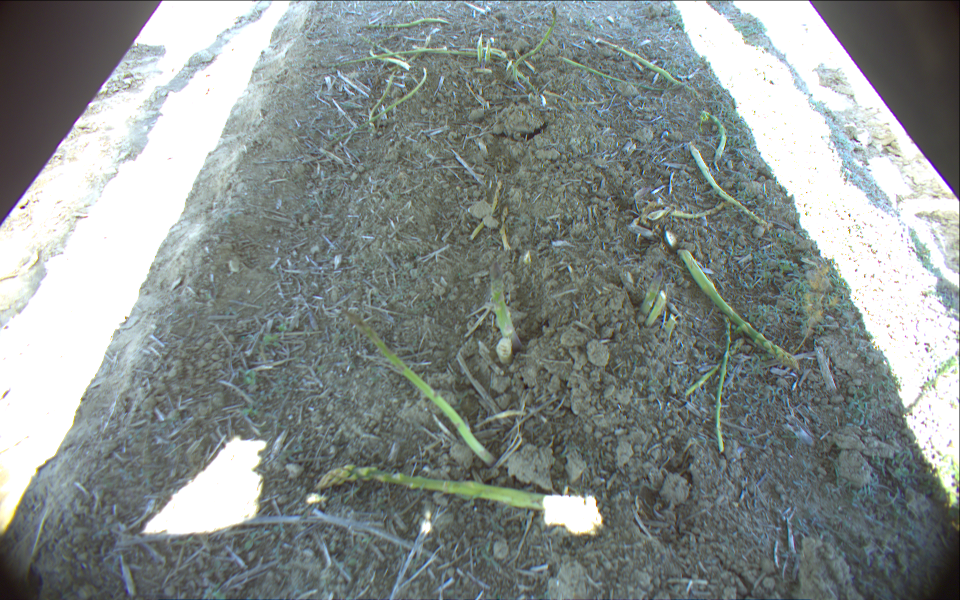aspa: (341, 307, 496, 468), (676, 247, 800, 369), (312, 466, 580, 513), (327, 68, 428, 149), (690, 141, 771, 226), (583, 32, 695, 90), (561, 56, 675, 92), (512, 6, 556, 92), (686, 337, 746, 397), (326, 45, 475, 69), (492, 277, 526, 351), (715, 318, 728, 454), (702, 113, 728, 168), (359, 34, 410, 61), (640, 269, 662, 317), (362, 18, 448, 30), (671, 203, 728, 220), (369, 48, 410, 70), (646, 290, 667, 326), (494, 337, 511, 364), (474, 45, 508, 56), (476, 34, 485, 63), (664, 316, 676, 337), (484, 41, 491, 61)
